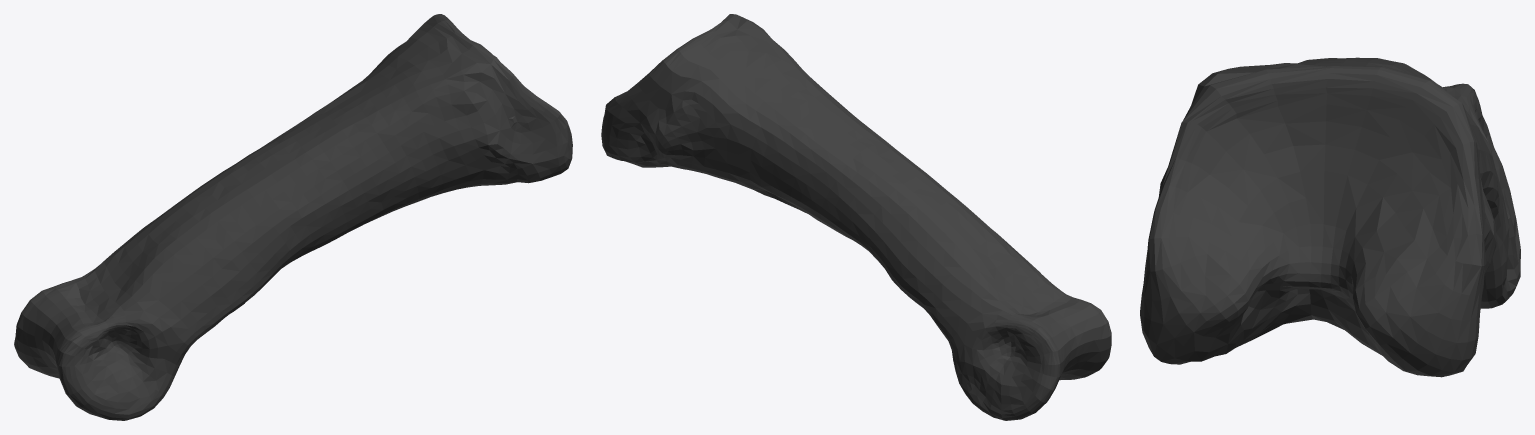
Rendered from proximal_phalanx_III_L.glb.
3 renders of one model, left to right at view 1: azimuth 30°, elevation 25°; view 2: azimuth 150°, elevation 25°; view 3: azimuth 270°, elevation 25°, orthographic. The views are drawn at different scales.
Parts seen in each view (by area): view 1: proximal_phalanx_III_L; view 2: proximal_phalanx_III_L; view 3: proximal_phalanx_III_L.
Boxes of the visible parts, bbox=[...] form: proximal_phalanx_III_L: bbox=[14, 14, 572, 420]; proximal_phalanx_III_L: bbox=[601, 14, 1111, 420]; proximal_phalanx_III_L: bbox=[1140, 57, 1520, 377].
Bounding box in the file's own units: 0.0443 × 0.0249 × 0.0155.
Materials: 1 (1 with a texture image).
